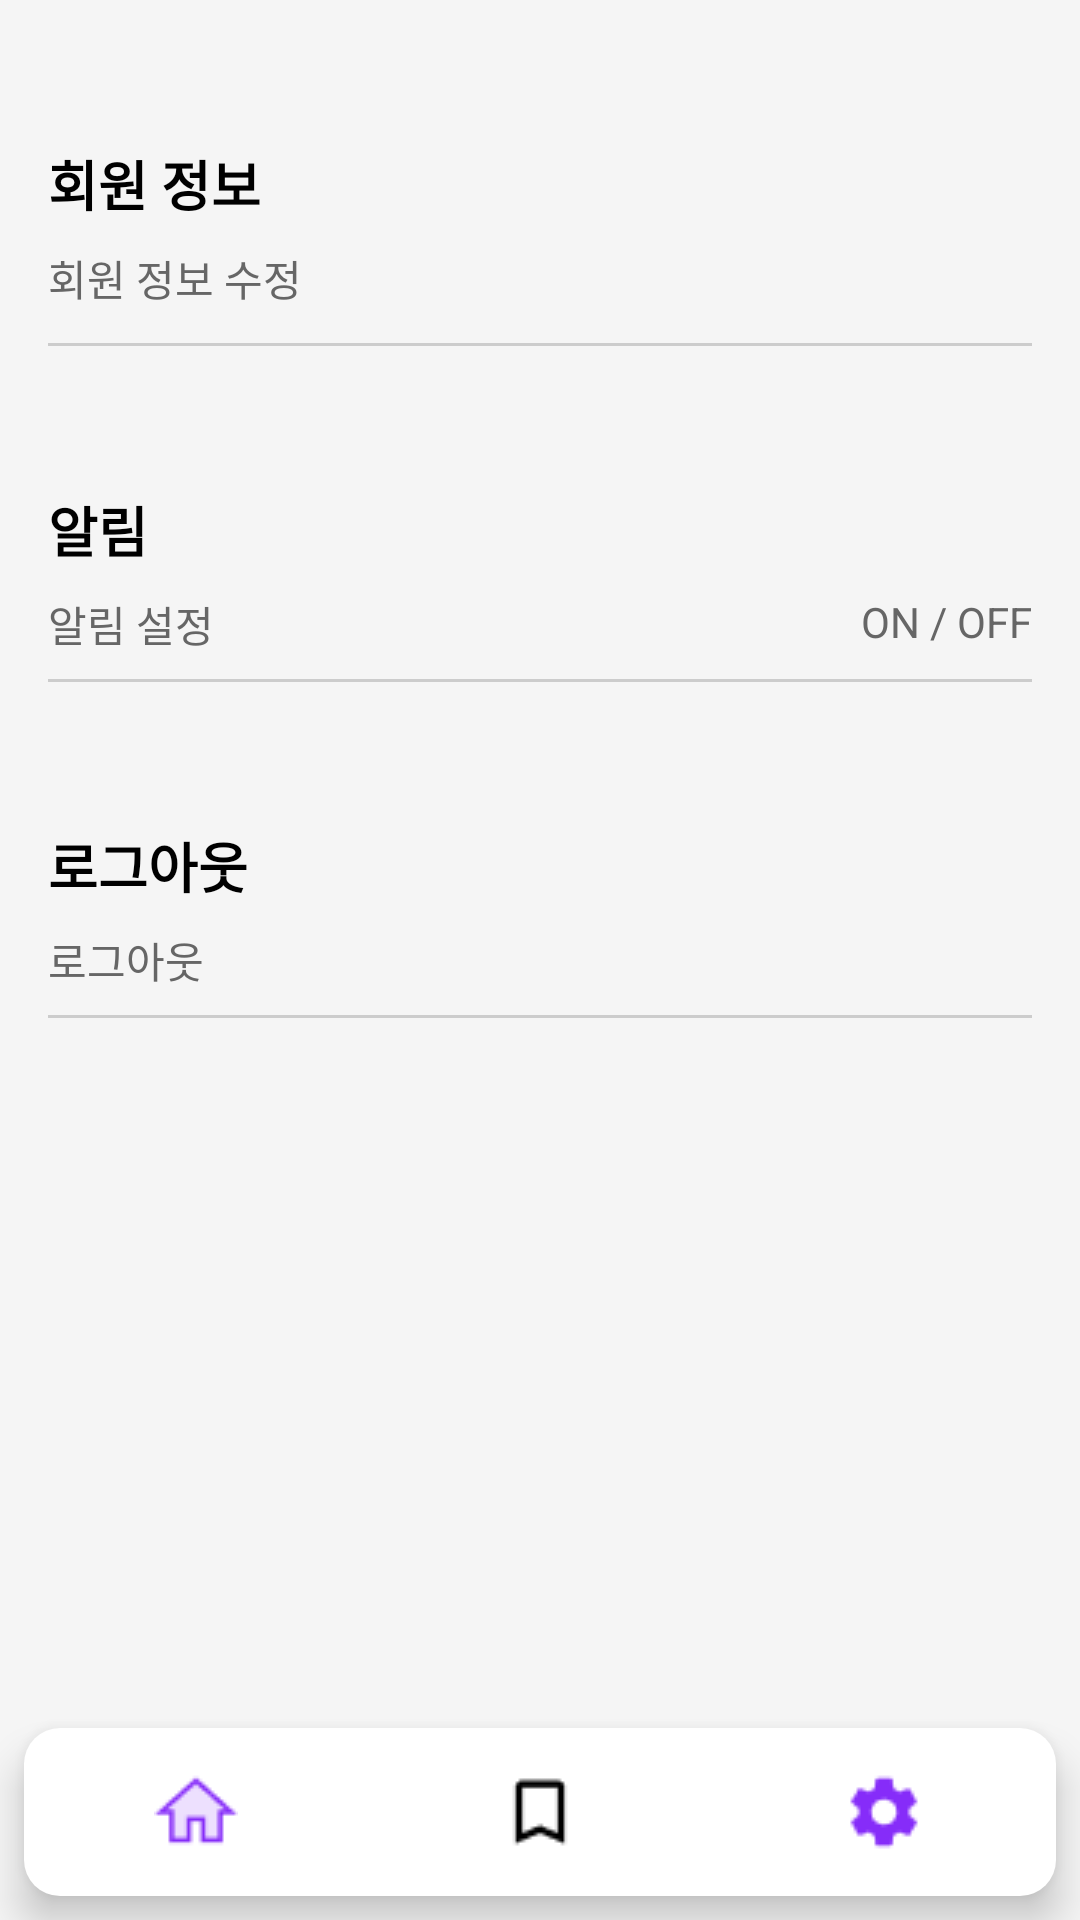

Icons on this 1080*1920 Android screen, each with the point to tap as (x=x, y=y):
home: (x=196, y=1810)
북마크: (x=540, y=1811)
설정: (x=884, y=1812)
